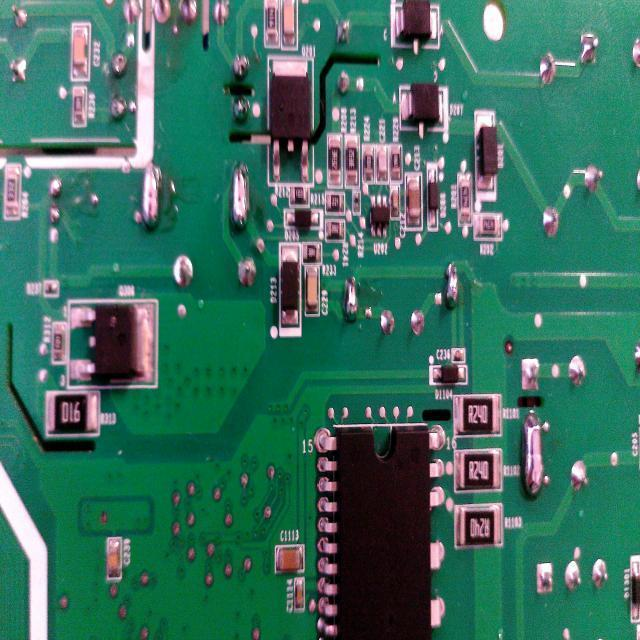Soldering shorted: (520, 405, 552, 515), (228, 154, 252, 232), (140, 160, 162, 233), (343, 272, 363, 329), (444, 260, 462, 306)
